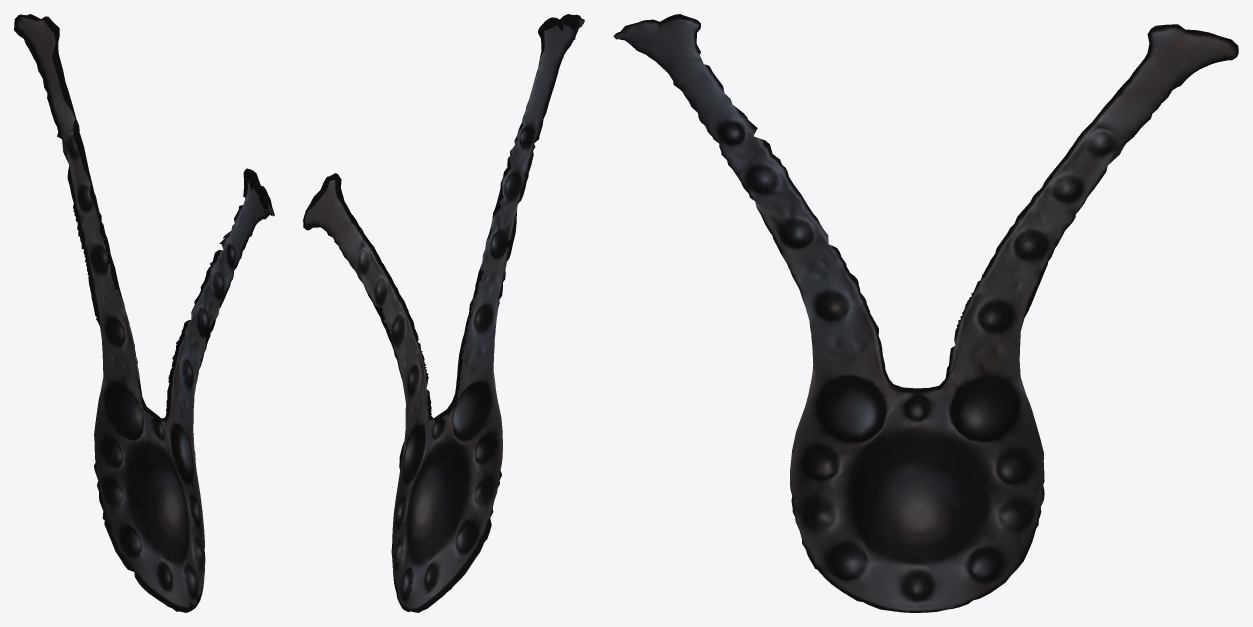
3 views of the same model, side by side, from view 1: azimuth 30°, elevation 25°; view 2: azimuth 150°, elevation 25°; view 3: azimuth 270°, elevation 25° (orthographic). The views are drawn at different scales.
Visible parts, largest first — view 1: 20250809ainu; view 2: 20250809ainu; view 3: 20250809ainu.
Part boxes in pixels (x1,y1,x2,y2): 20250809ainu: [14, 14, 274, 612]; 20250809ainu: [303, 14, 584, 612]; 20250809ainu: [613, 14, 1238, 612].
Bounding box in the file's own units: 0.2912 × 4.67 × 4.47.
Materials: 1 (1 with a texture image).
